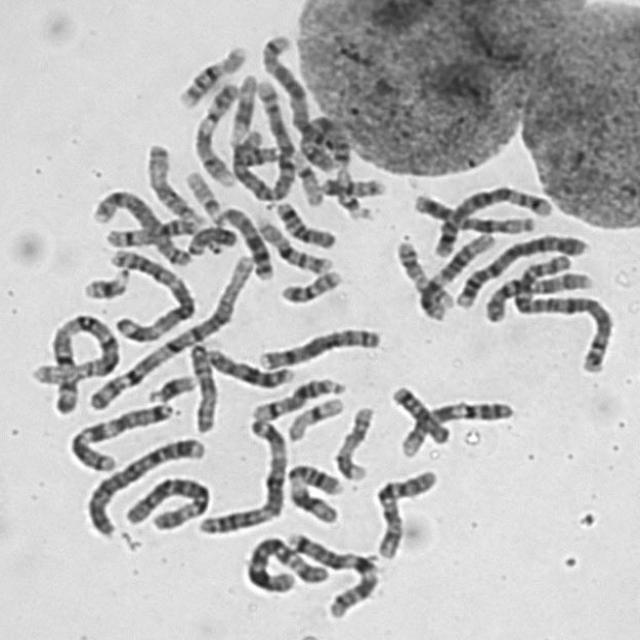A1: (82, 244, 258, 413), (27, 308, 123, 390)
A2: (505, 251, 614, 374), (225, 71, 302, 204)
A3: (191, 411, 291, 536), (102, 242, 198, 343)
B4: (79, 431, 209, 540), (449, 226, 590, 312)
B5: (255, 28, 345, 171), (427, 180, 554, 258)
C10: (367, 462, 440, 561), (479, 263, 597, 324)
C11: (281, 457, 345, 525), (291, 114, 354, 175)
C12: (411, 225, 498, 322), (406, 187, 536, 235)
C6: (238, 528, 334, 594), (117, 470, 213, 534)
C7: (281, 525, 382, 621), (62, 395, 177, 474)
C8: (86, 183, 196, 268), (252, 321, 384, 371)
C9: (394, 394, 517, 458), (186, 76, 243, 186)
D13: (212, 200, 275, 281), (200, 341, 296, 391)
D14: (247, 372, 348, 423), (98, 211, 203, 249)
D15: (140, 138, 201, 222), (183, 335, 219, 434)
E16: (249, 210, 337, 276), (172, 40, 249, 108)
E17: (389, 234, 455, 314), (329, 400, 376, 482)
E18: (385, 379, 455, 447), (269, 197, 338, 250)
F19: (282, 388, 347, 442), (288, 147, 326, 207)
F20: (275, 263, 345, 304), (317, 171, 388, 198)
G21: (141, 367, 199, 404), (77, 263, 132, 302)
G22: (179, 163, 225, 224), (328, 160, 366, 222)
Y: (181, 220, 240, 256)
